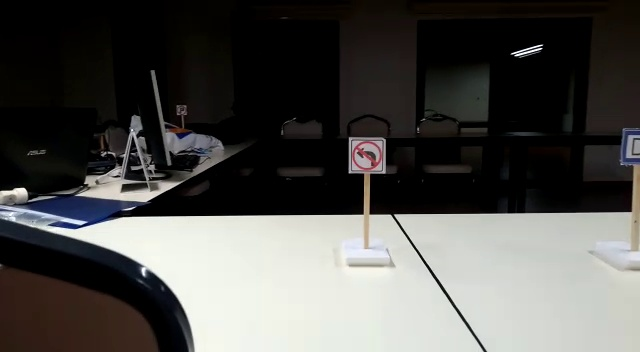sola_donulmez: (348, 135, 387, 174)
